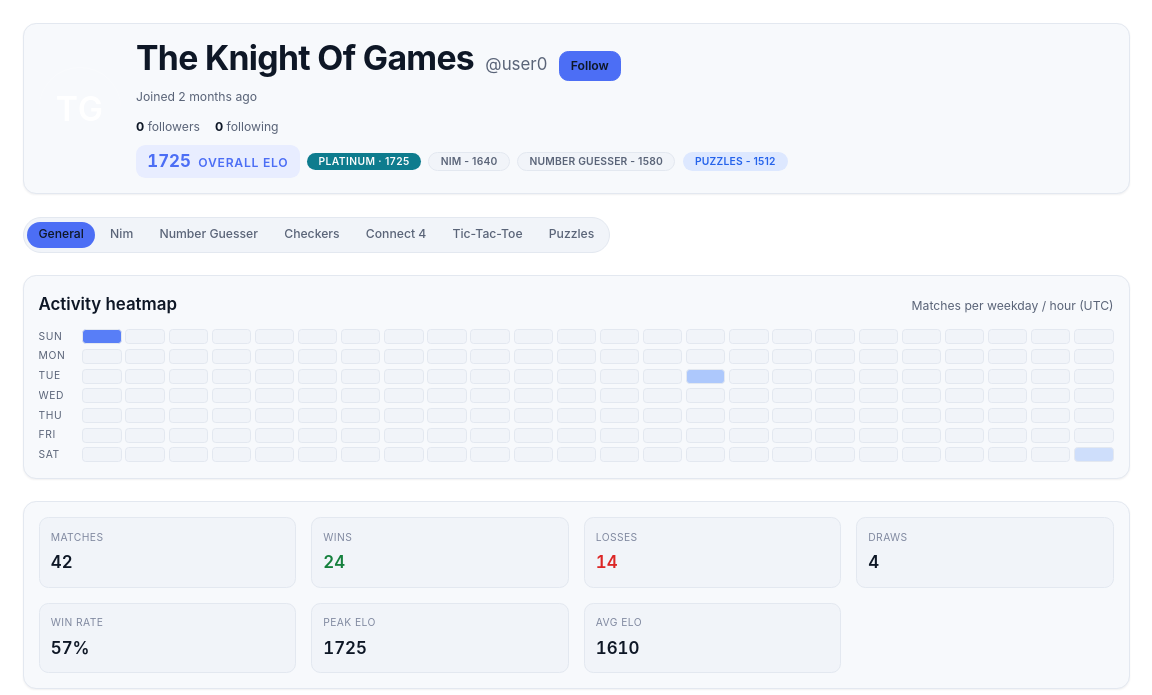
Scenario: Profile page — scope pills › defaults to General and swaps heatmap/stats/hero when a game pill is clicked
The image size is (1152, 695).
Check: the element with test id "profile-header" is shown, box 22,22 -> 1130,194
Check: the cell named "Sunday 00:00, 5 matches" is shown, box 82,329 -> 122,344
# Switch to the nim scope: every element re-reads from perGame[nim].
Click the radio button with test id "scope-pill-nim" at (122, 235), box 99,222 -> 144,248
(page scrolled)
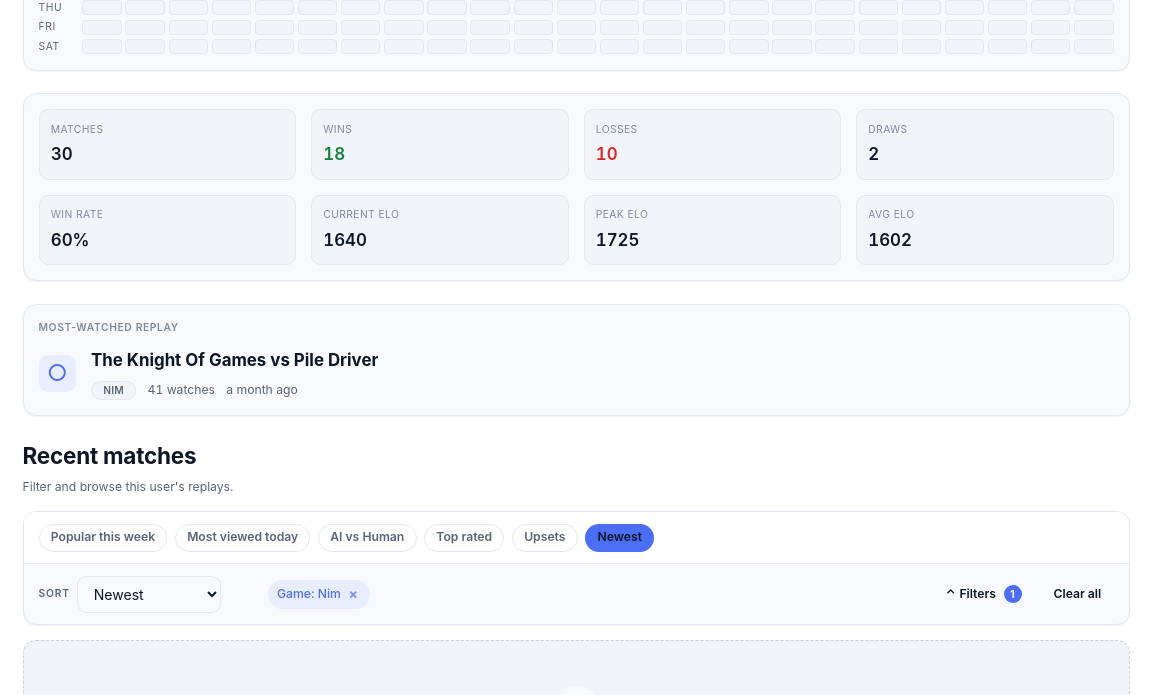
Check: the element with test id "profile-stat-total" shows "30", box 51,144 -> 73,164
Check: the element with test id "profile-stat-current-elo" shows "1640", box 323,230 -> 367,250
Check: the element with test id "profile-stat-avg-elo" shows "1602", box 868,230 -> 912,250
